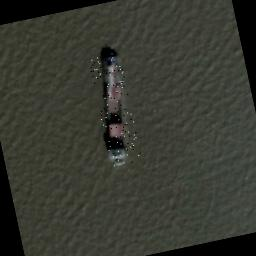boat: (88, 52, 142, 166)
